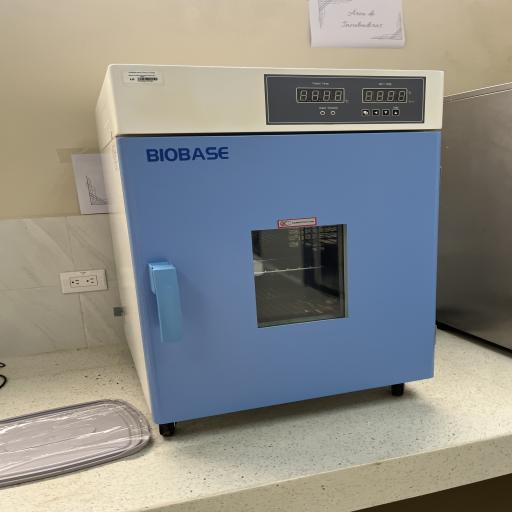Horno_Secado_Biobase: (74, 55, 461, 442)
